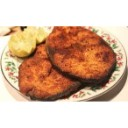seerfish: (46, 26, 116, 81), (18, 41, 85, 98)
